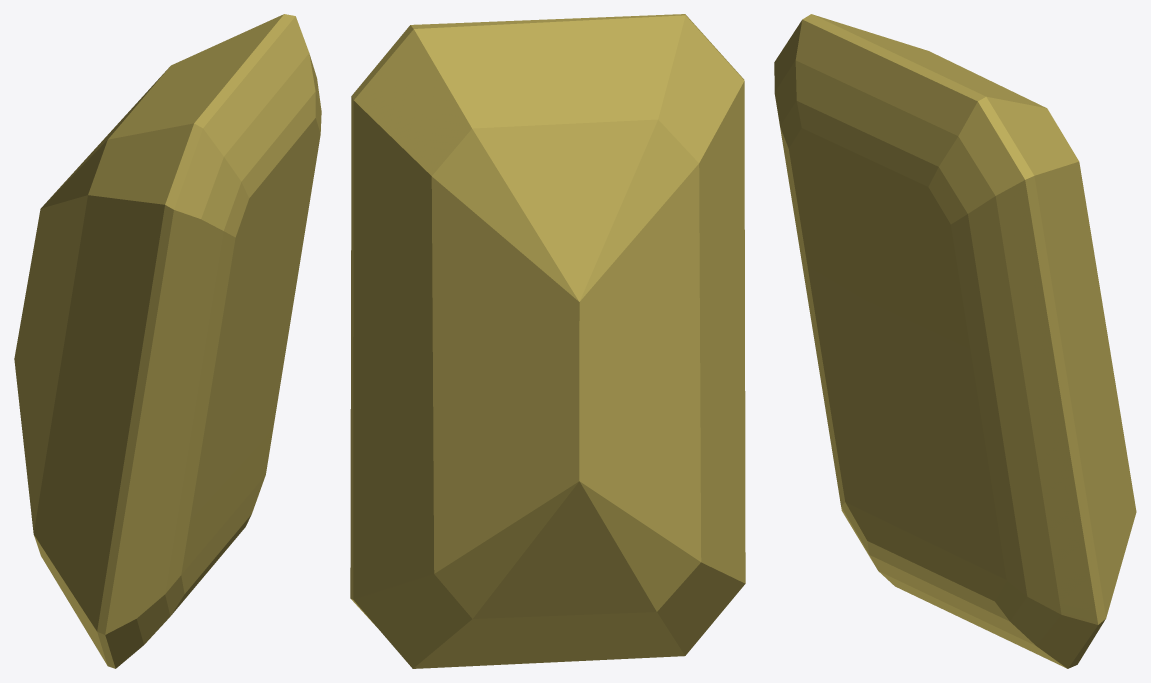
Rendered from BR3_8shapes_Emerald_Classic_Stone.001 2.glb.
The picture shows the model from 3 angles, left to right: view 1: azimuth 30°, elevation 25°; view 2: azimuth 150°, elevation 25°; view 3: azimuth 270°, elevation 25°; orthographic projection. The views are drawn at different scales.
Parts seen in each view (by area): view 1: BR3_8shapes_Emerald_Classic_Stone.001; view 2: BR3_8shapes_Emerald_Classic_Stone.001; view 3: BR3_8shapes_Emerald_Classic_Stone.001.
Boxes of the visible parts, x1,y1,x2,y2 form: BR3_8shapes_Emerald_Classic_Stone.001: (14, 14, 321, 668); BR3_8shapes_Emerald_Classic_Stone.001: (350, 14, 745, 668); BR3_8shapes_Emerald_Classic_Stone.001: (774, 14, 1136, 668).
Size of the model in its own units: 0.334 by 0.6041 by 0.3314.
